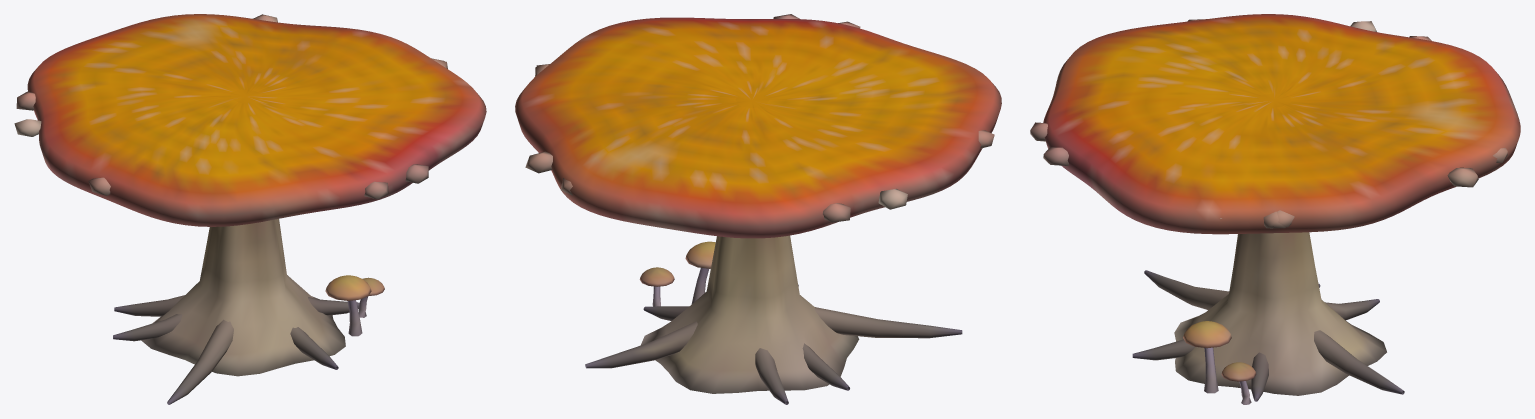
Rendered from mantar_masa.glb.
The picture shows the model from 3 angles, left to right: view 1: azimuth 30°, elevation 25°; view 2: azimuth 150°, elevation 25°; view 3: azimuth 270°, elevation 25°; orthographic projection. The views are drawn at different scales.
Parts seen in each view (by area): view 1: mantar_masa_LOD0; view 2: mantar_masa_LOD0; view 3: mantar_masa_LOD0.
Part boxes in pixels (x1,y1,x2,y2): mantar_masa_LOD0: (14,14,486,404); mantar_masa_LOD0: (515,14,1001,404); mantar_masa_LOD0: (1030,14,1520,404).
Size of what is drawn, in the model's own units: 1.39 by 0.7862 by 1.4.
